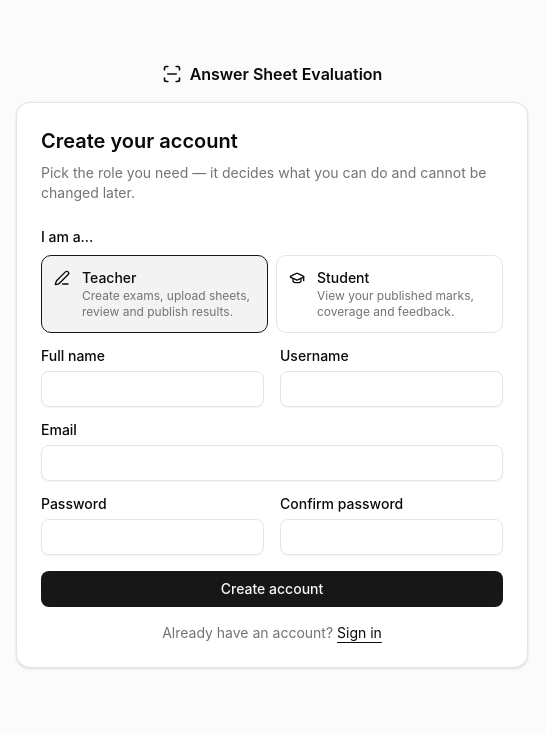
it: Signup › reveals the USN field only when the student role is chosen
Click the radio button labelled "Student View your published marks, coverage and feedback." at (390, 294), box [276, 255, 503, 333]
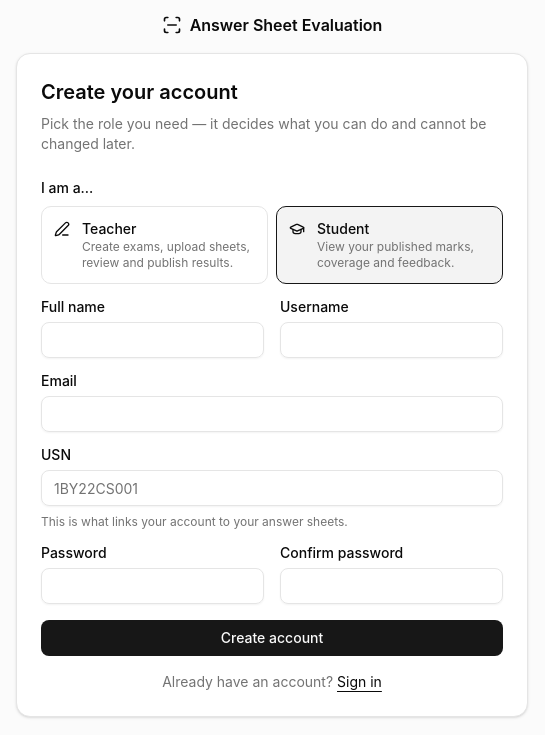
Expected: the field labelled "USN" is shown, [41, 470, 503, 506]
Click the radio button labelled "Teacher" at (154, 245), box [41, 206, 268, 284]
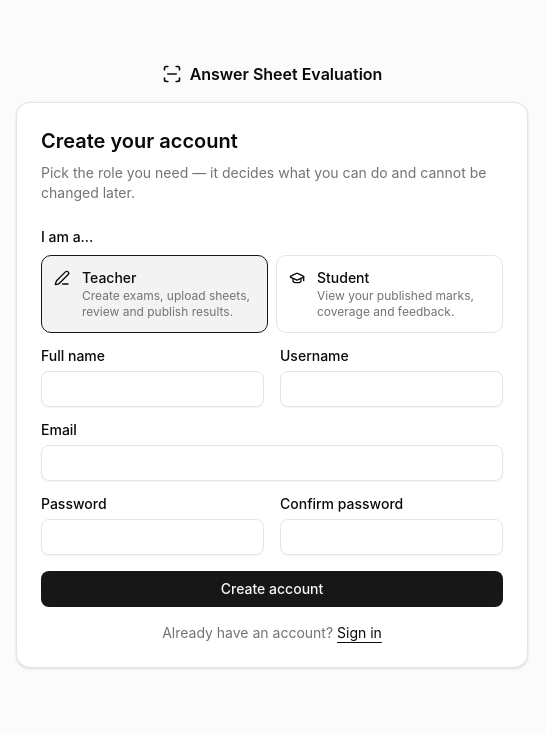
Expected: the label labelled "USN" is gone
